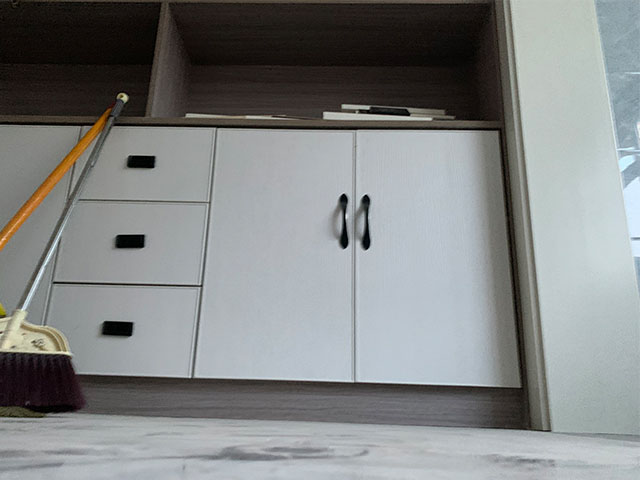cabinet: (1, 109, 504, 430)
